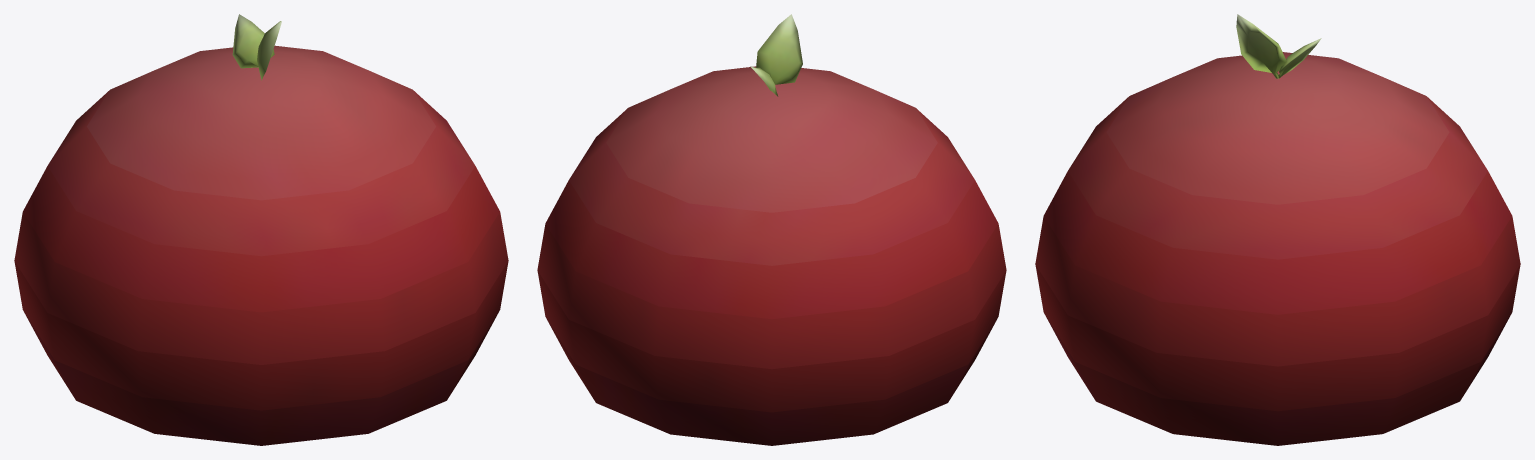
The model's file is M_Bush_01.fbx.
3 renders of one model, left to right at view 1: azimuth 30°, elevation 25°; view 2: azimuth 150°, elevation 25°; view 3: azimuth 270°, elevation 25°, orthographic. The views are drawn at different scales.
Parts seen in each view (by area): view 1: M_Bush_01; view 2: M_Bush_01; view 3: M_Bush_01.
Boxes of the visible parts, box(x1,y1,x2,y2) form: M_Bush_01: box(14, 14, 508, 445); M_Bush_01: box(537, 14, 1006, 445); M_Bush_01: box(1035, 14, 1520, 445).
Bounding box in the file's own units: 316 × 246 × 316.
Materials: 1 (1 with a texture image).
